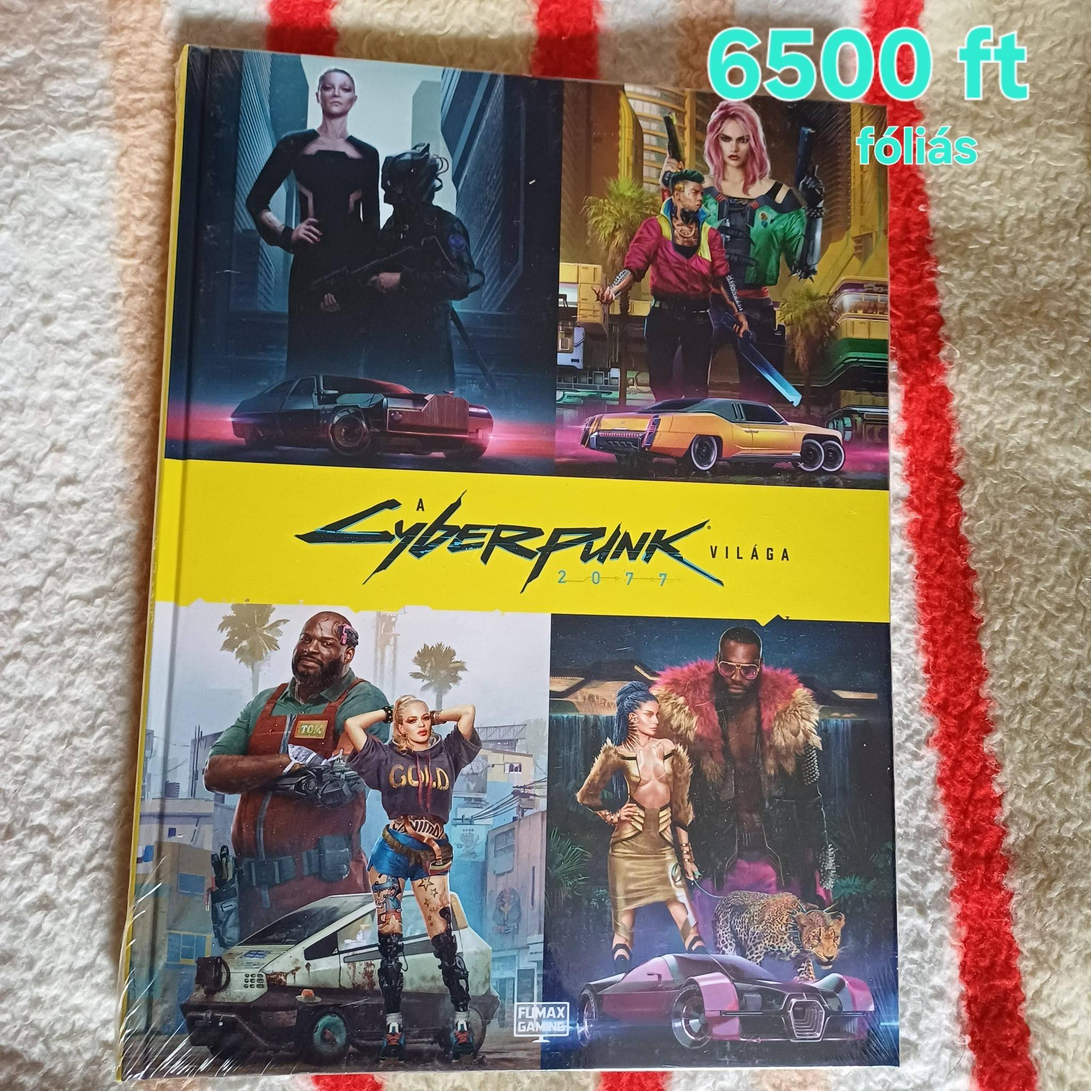comic: (120, 48, 911, 1087)
